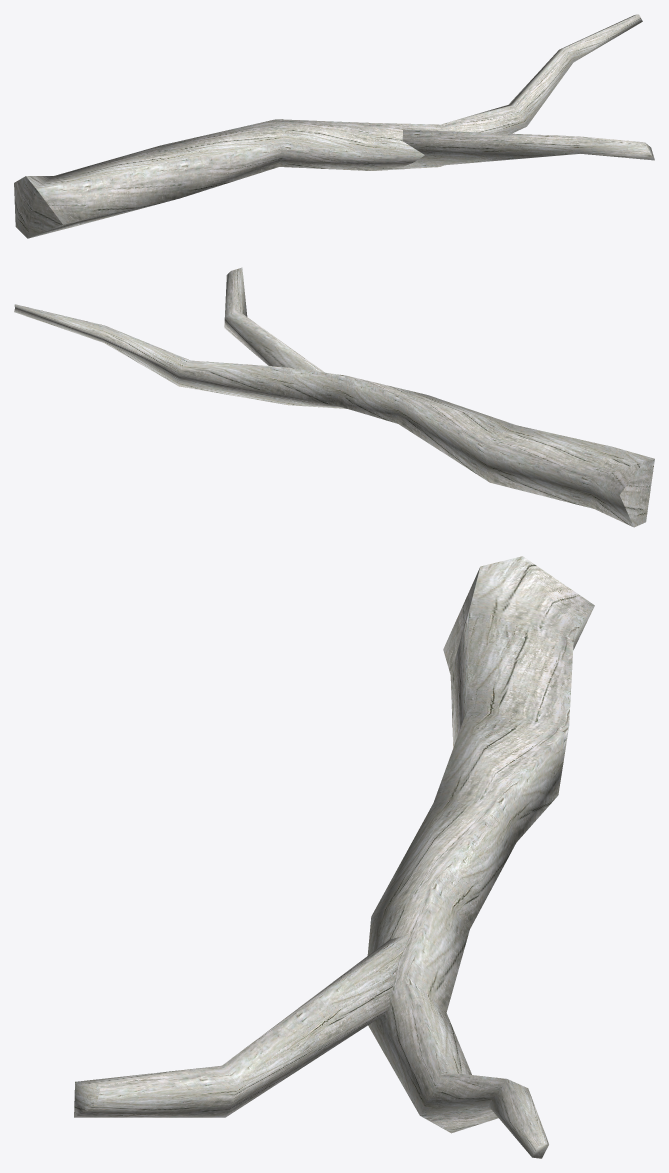
The model's file is shor_driftwood_a1_l1.fbx.
3 renders of one model, top to bottom at view 1: azimuth 30°, elevation 25°; view 2: azimuth 150°, elevation 25°; view 3: azimuth 270°, elevation 25°, orthographic. The views are drawn at different scales.
Visible parts, largest first — view 1: mesh_node; view 2: mesh_node; view 3: mesh_node.
Boxes of the visible parts, x1=… form: mesh_node: x1=14, y1=14, x2=654, y2=238; mesh_node: x1=14, y1=267, x2=654, y2=527; mesh_node: x1=74, y1=556, x2=594, y2=1158.
Size of the model in its own units: 6.79 by 0.7266 by 2.47.
